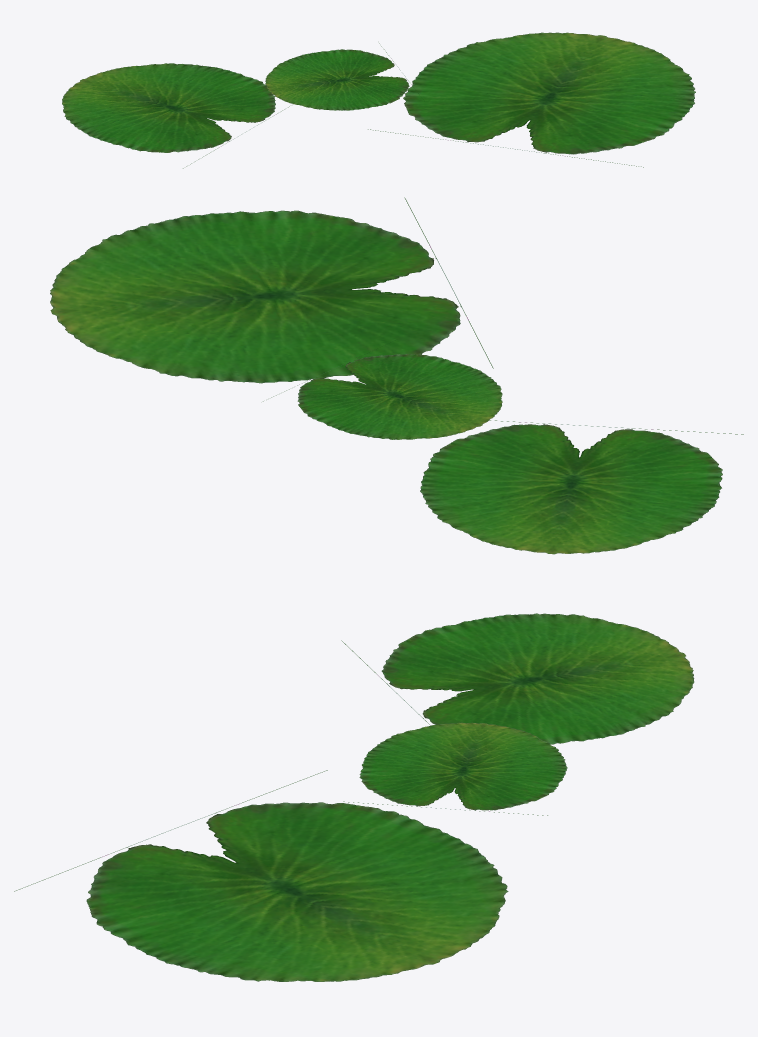
Rendered from Hangzhou_wj_056_1.FBX.
3 views of the same model, one above another, from view 1: azimuth 30°, elevation 25°; view 2: azimuth 150°, elevation 25°; view 3: azimuth 270°, elevation 25° (orthographic). The views are drawn at different scales.
Visible parts, largest first — view 1: HC_shuilian001_010; view 2: HC_shuilian001_010; view 3: HC_shuilian001_010.
Part boxes in pixels (<box>): HC_shuilian001_010: <box>62,32,695,168</box>; HC_shuilian001_010: <box>50,197,743,554</box>; HC_shuilian001_010: <box>14,613,694,981</box>.
Size of the model in its own units: 95.17 by 1.87 by 68.09.
1 material, 1 textured.
